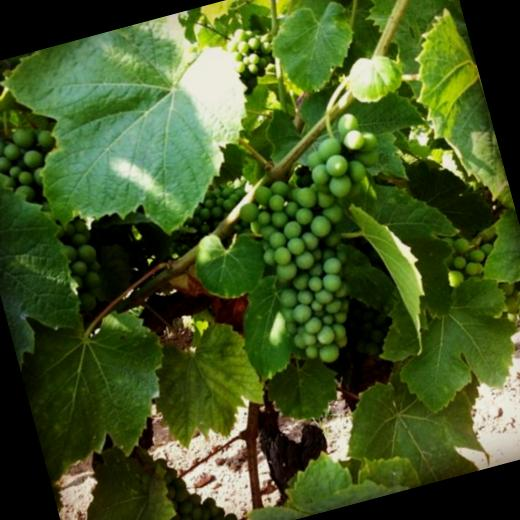Orange: (220, 108, 428, 376), (0, 116, 110, 330), (131, 439, 250, 520), (439, 226, 520, 341), (178, 178, 258, 256), (219, 22, 285, 99), (158, 228, 193, 262)
